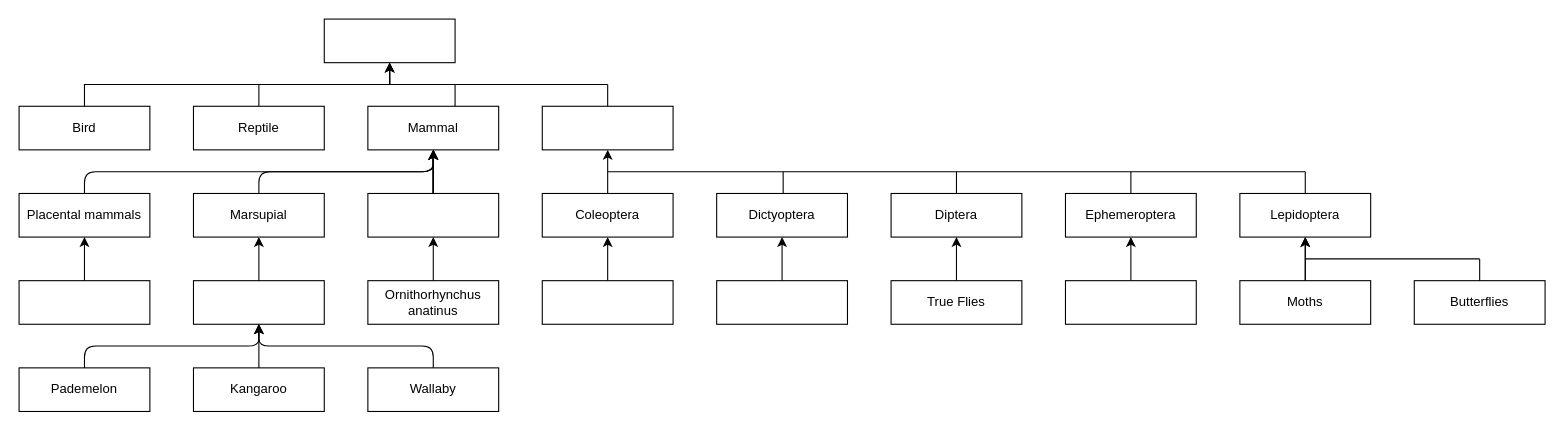
The diagram is 1564 pixels wide and 431 high, and some of its shapes have lost their labels. Each missing label, with the centre of its shape:
"Animal" goes at pixel 389 40.
"Beetles" goes at pixel 607 302.
"Homo sapiens" goes at pixel 84 302.
"Insects" goes at pixel 607 127.
"Macrodidae" goes at pixel 258 302.
"Mantids" goes at pixel 781 302.
"Mayflies" goes at pixel 1130 302.
"Monotremes" goes at pixel 433 214.
